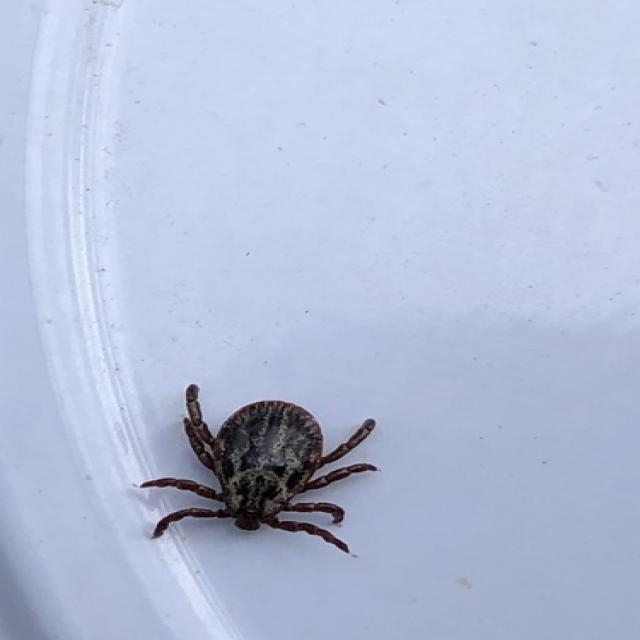Dermacentor Reticulatus-M: (140, 387, 375, 552)
